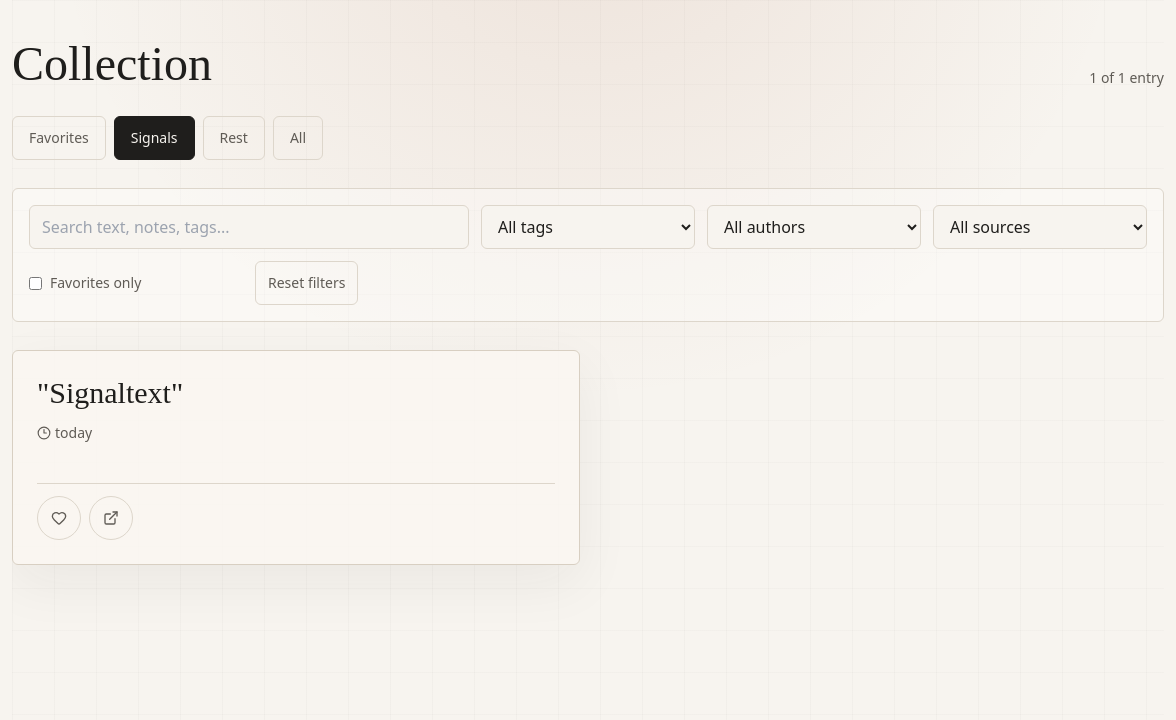
LibraryPage › shows only resting entries with the resting label and wake button in the rest view
The width and height of the screenshot is (1176, 720).
What coordinates should you click on to do the following:
click the button "Rest"
I would click on:
 (234, 138)
Its box is top-left (202, 116), bottom-right (265, 160).
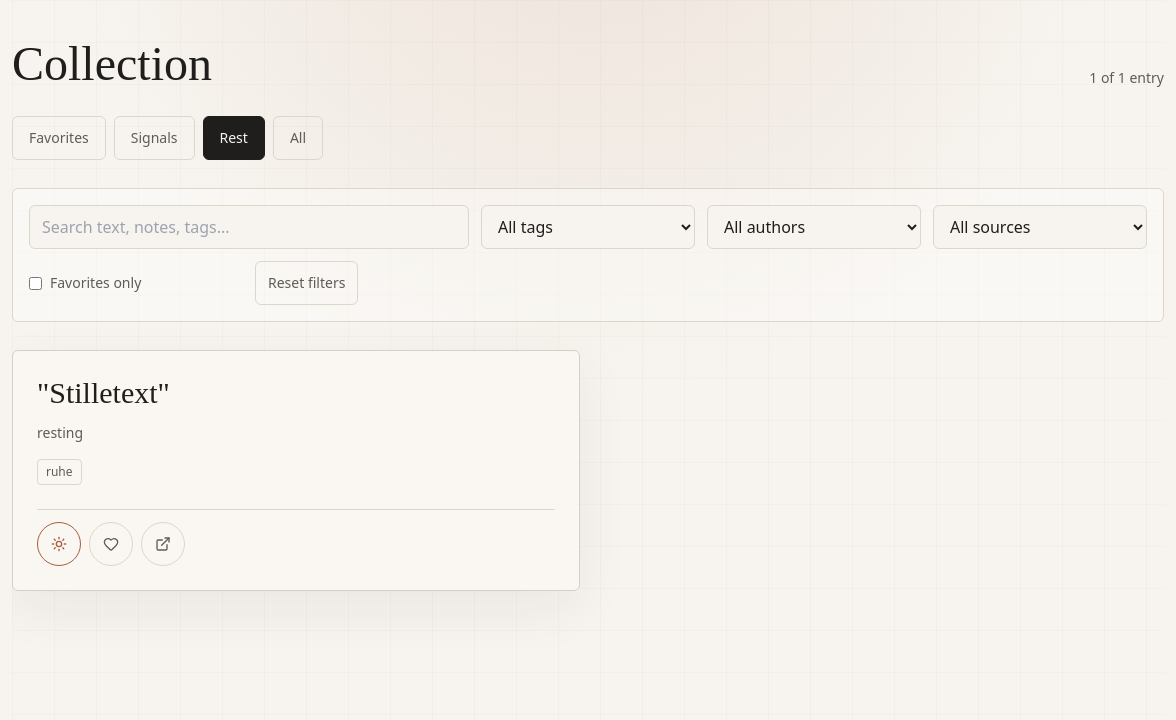
Expected: the text "\"Stilletext\"" is shown, top-left (37, 376), bottom-right (170, 409)
Expected: the text "\"Signaltext\"" is gone
Expected: the text "resting" is shown, top-left (37, 423), bottom-right (83, 443)
